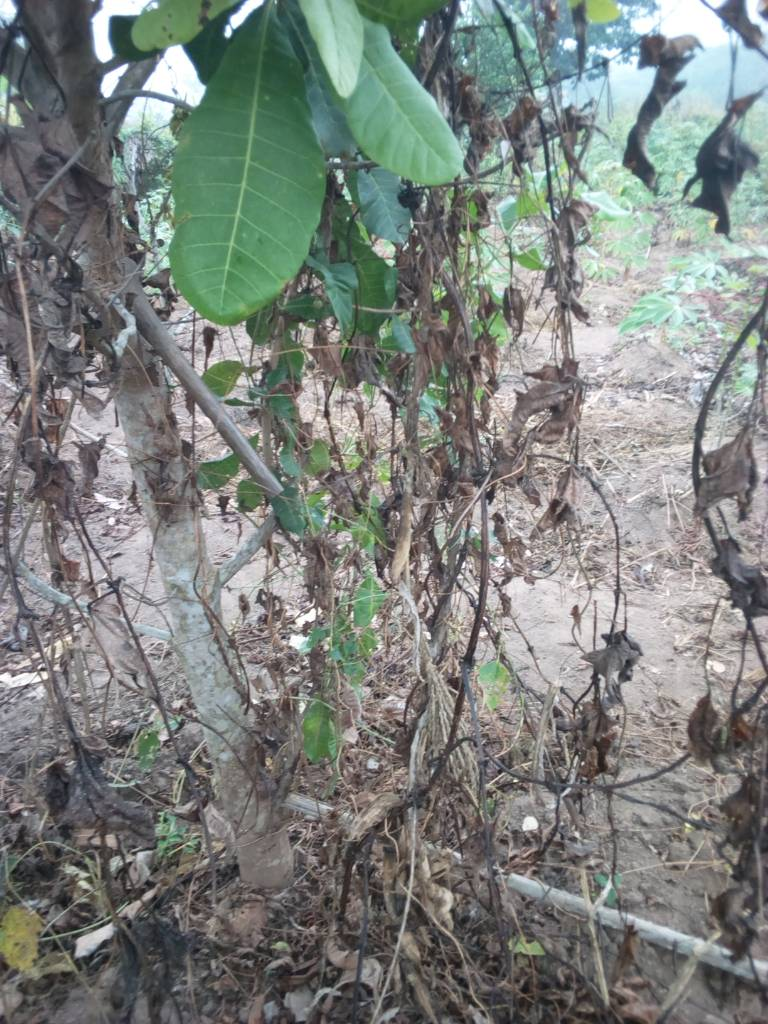Alternariose: (172, 13, 329, 328)
